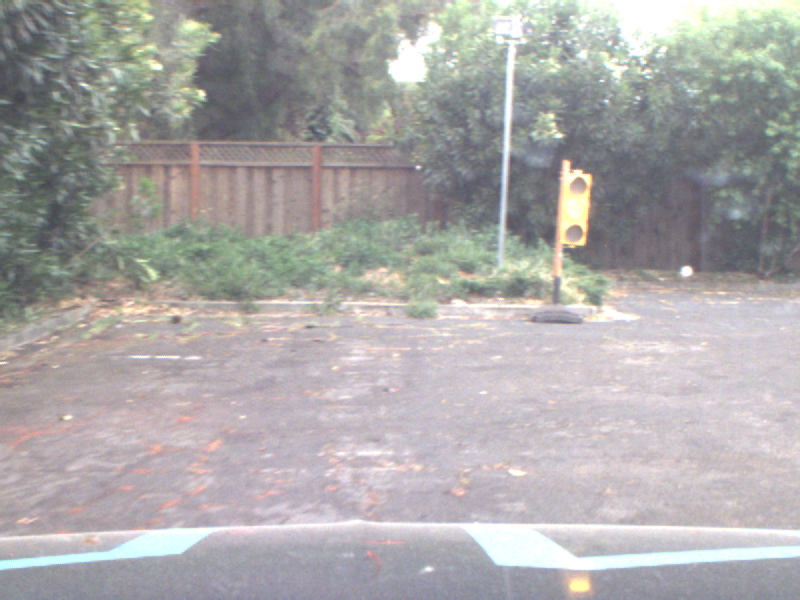Yellow: (561, 171, 589, 241)
